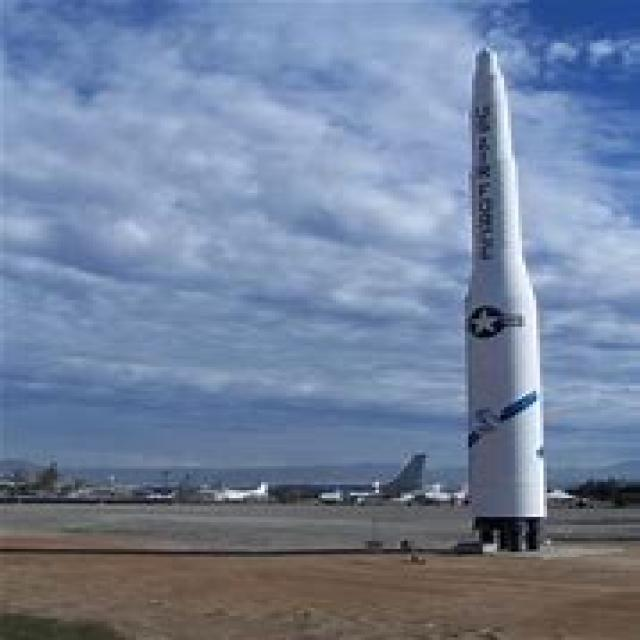missile: (456, 44, 546, 560)
